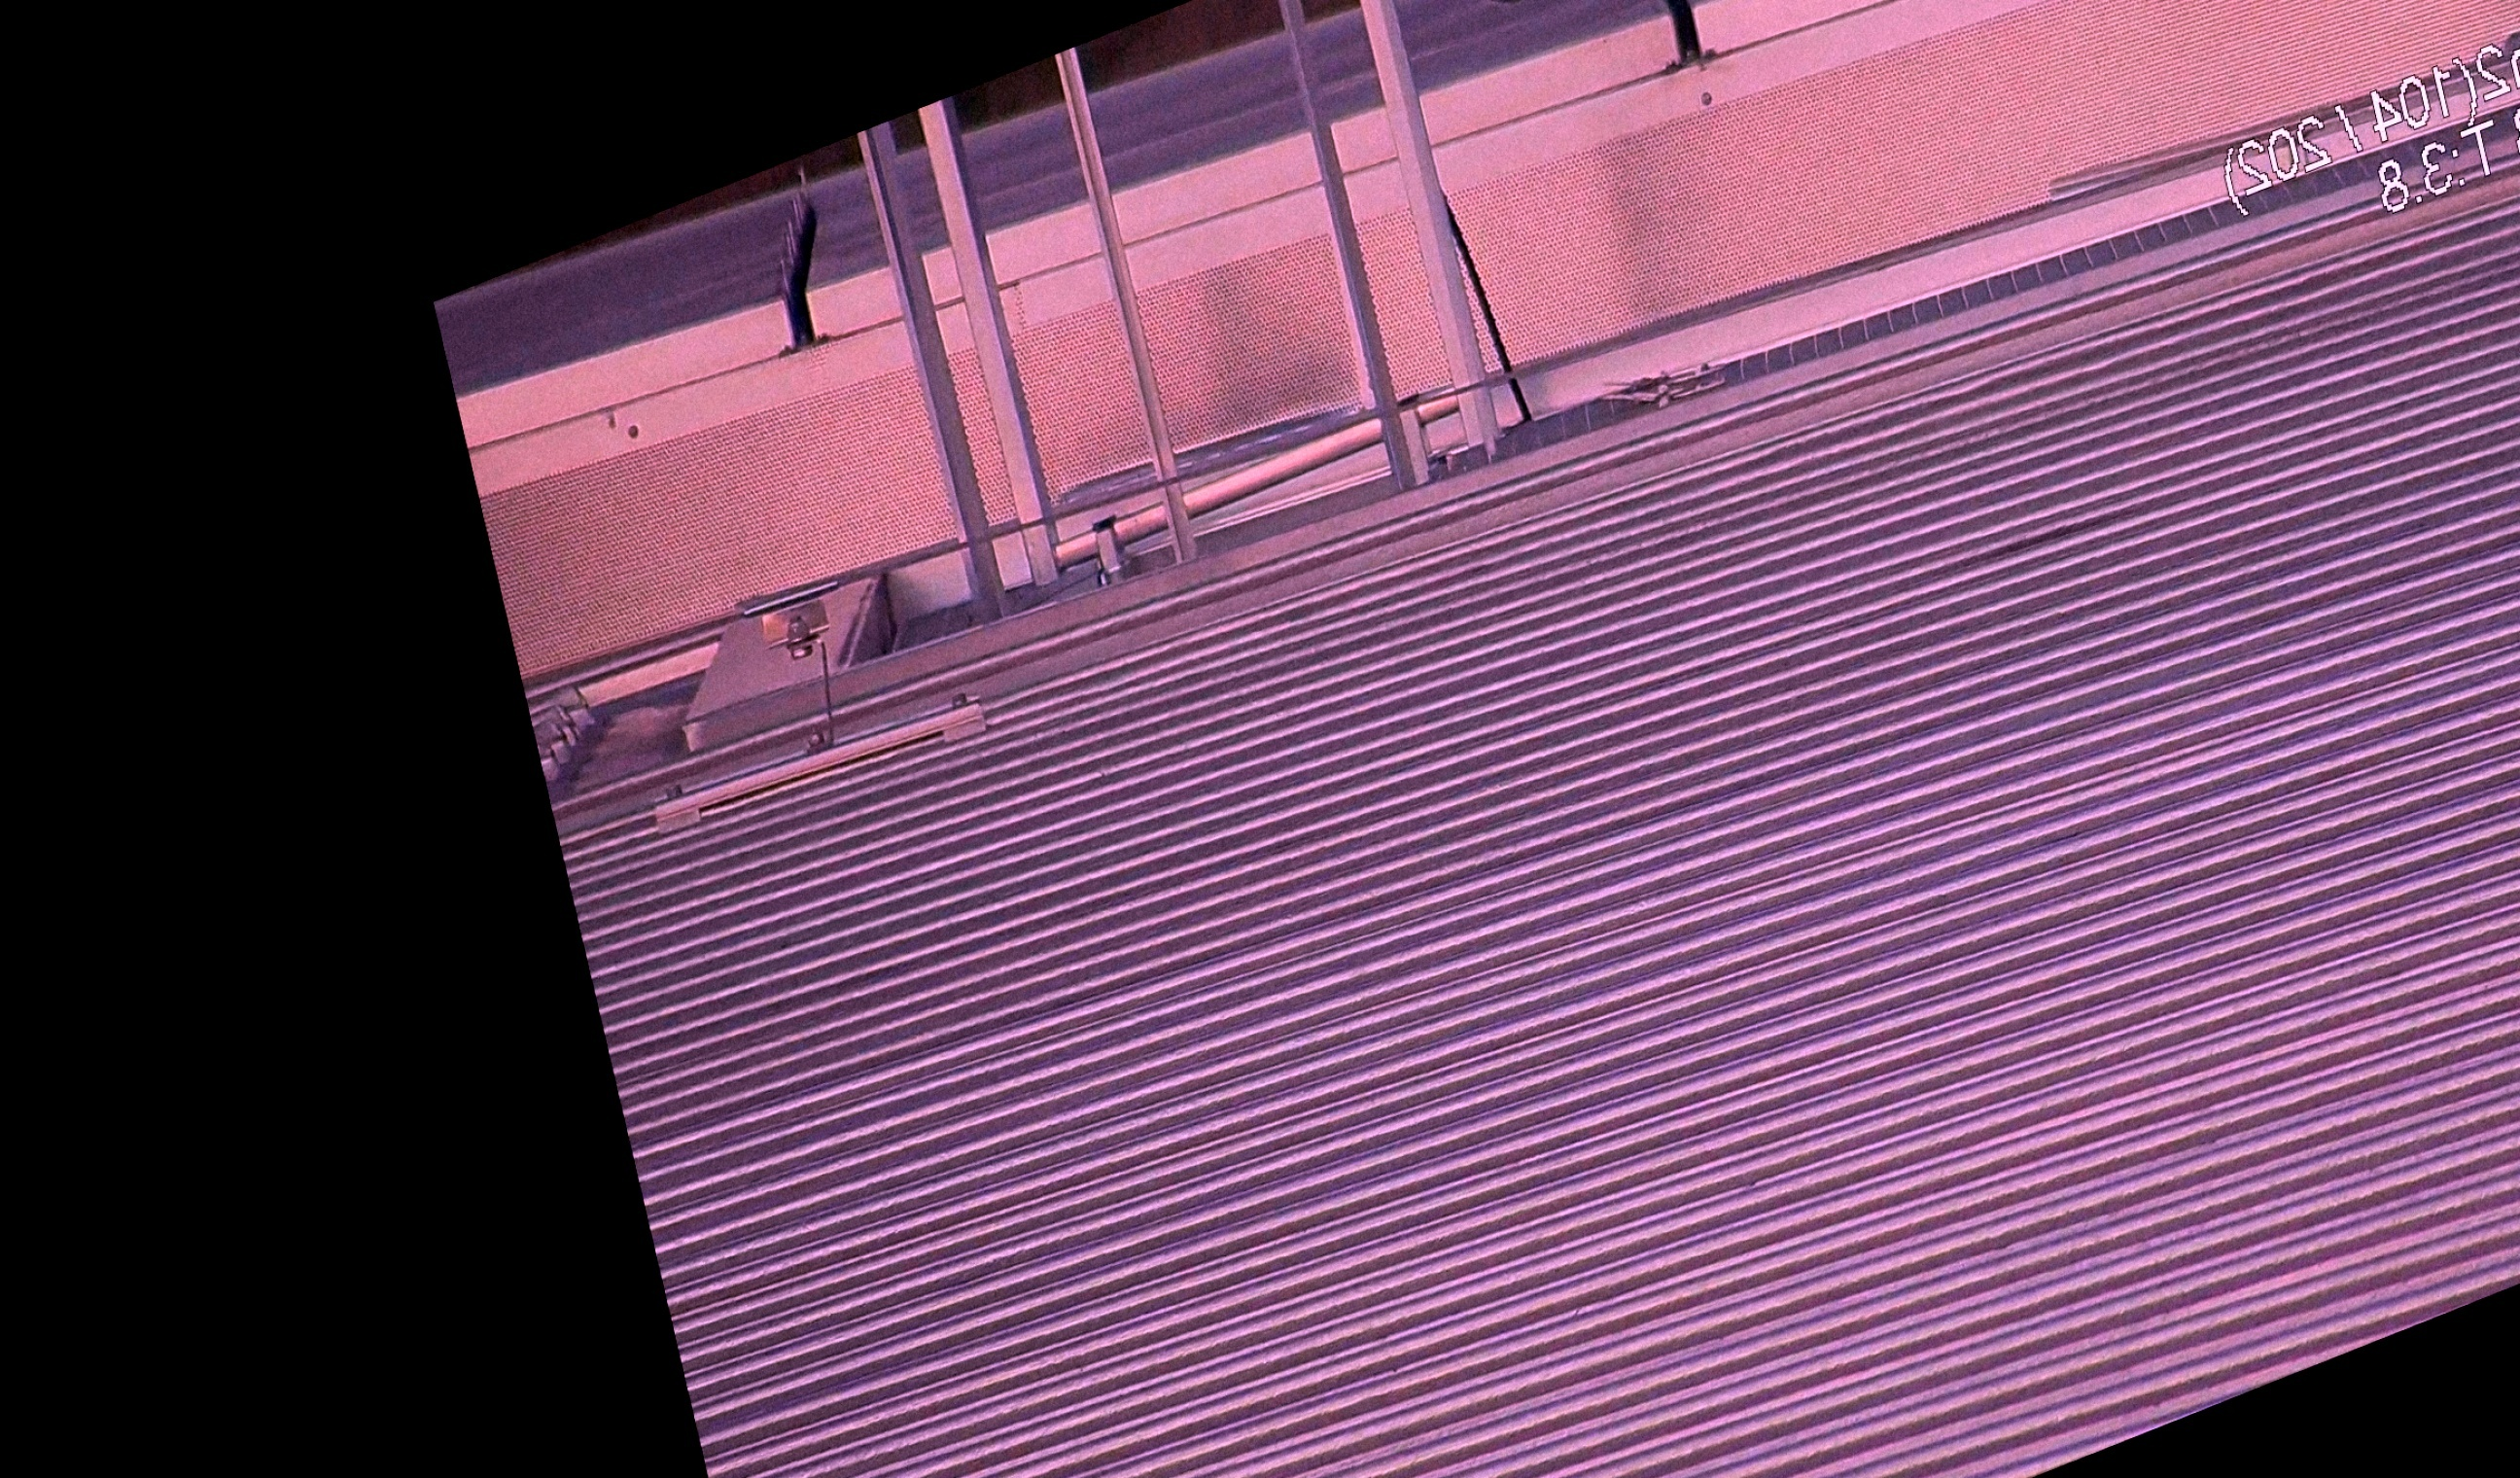Other: (732, 162, 853, 380)
